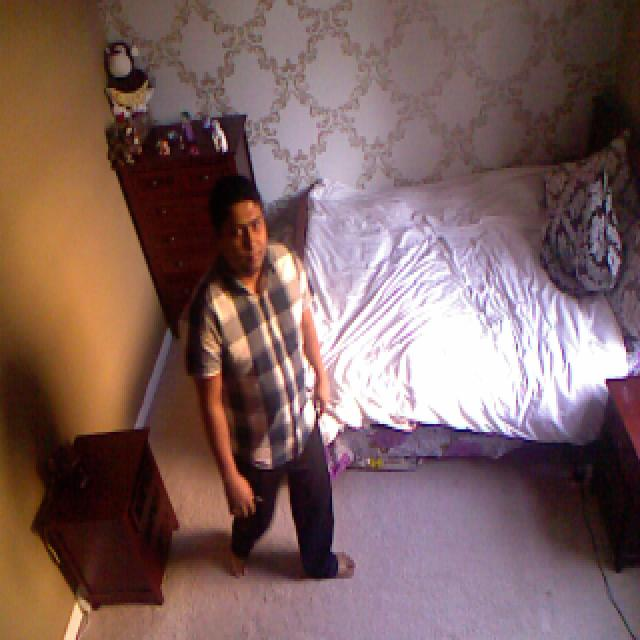standing: (190, 180, 359, 592)
